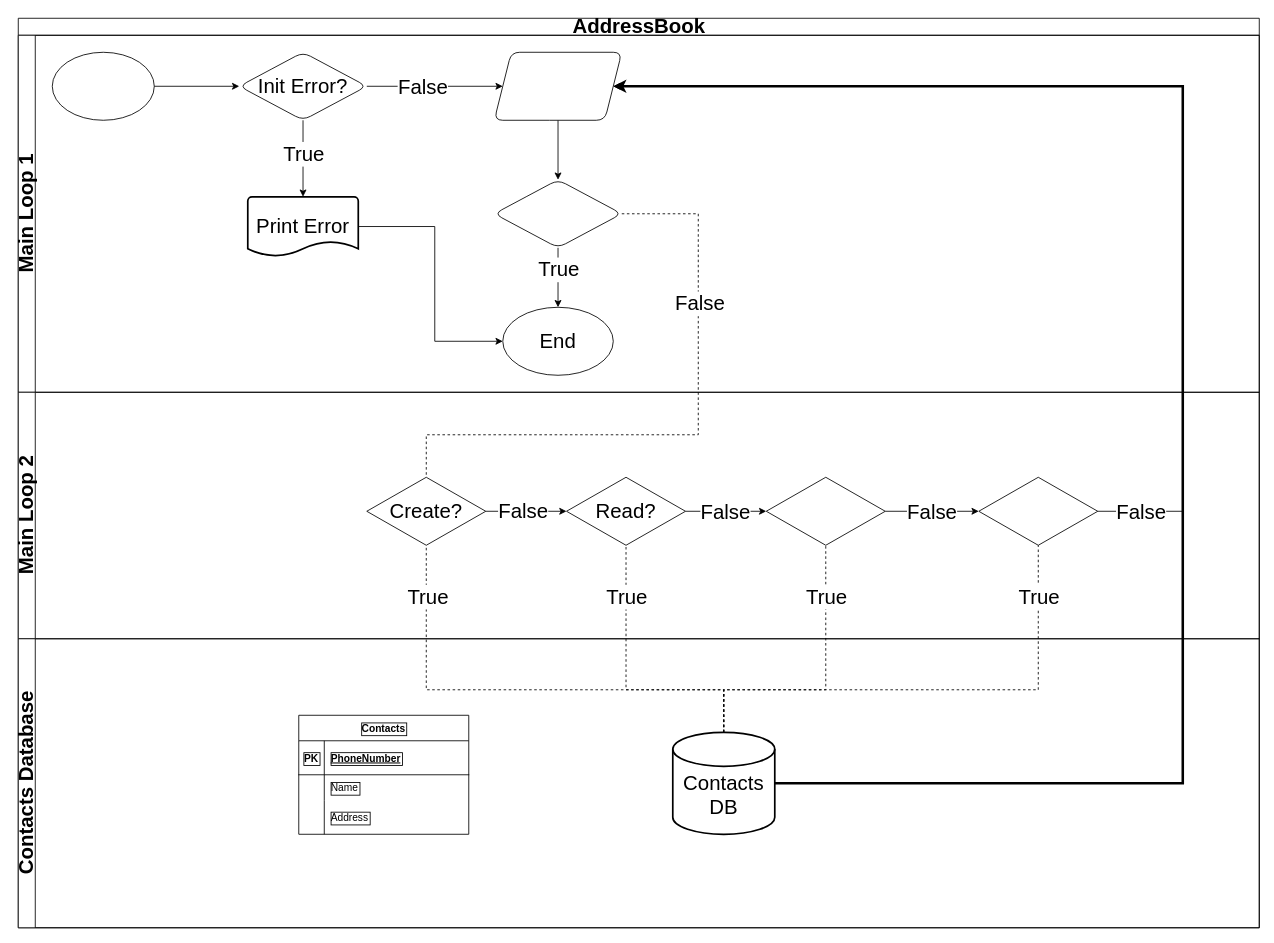
Some shapes in this 1274 by 943 pixel diagram are drawn without their labels. The shapes that lost their labels are listed below. From the top down, each one's centre as x and y in pixels, then its label:
pixel 102 85: Start
pixel 557 85: Cmd Input
pixel 557 213: Exit?
pixel 825 510: Update?
pixel 1038 510: Delete?
